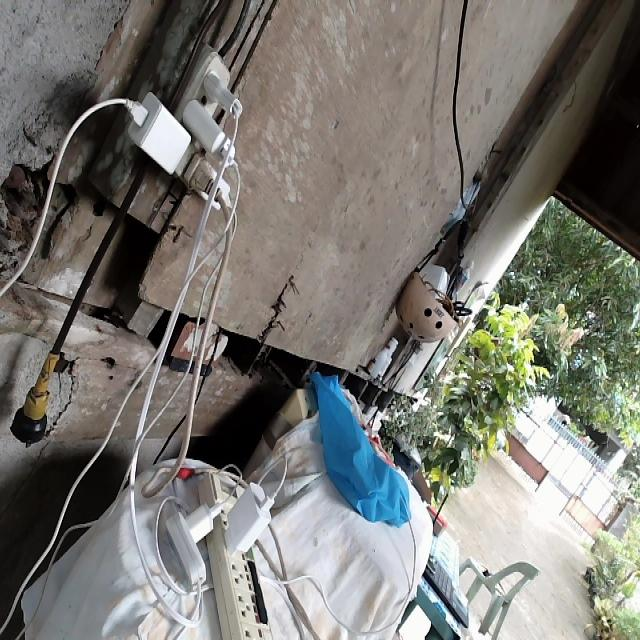-: (120, 44, 242, 208)
